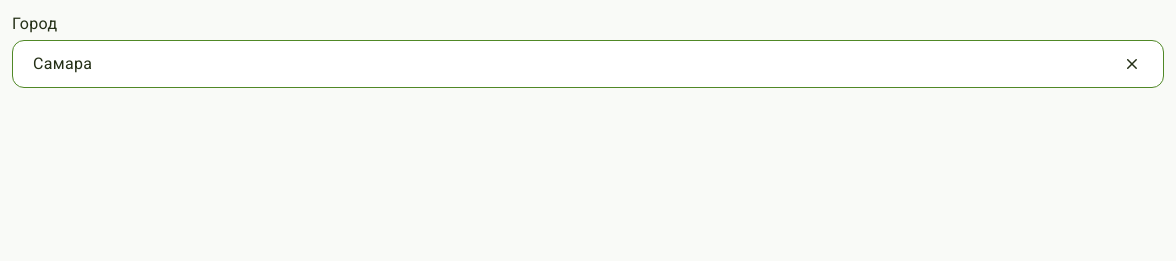
Select › закрывается по Escape без изменения значения (searchable=true)
The image size is (1176, 261).
Click the dropdown: (588, 64) left=12, top=40, right=1164, bottom=88
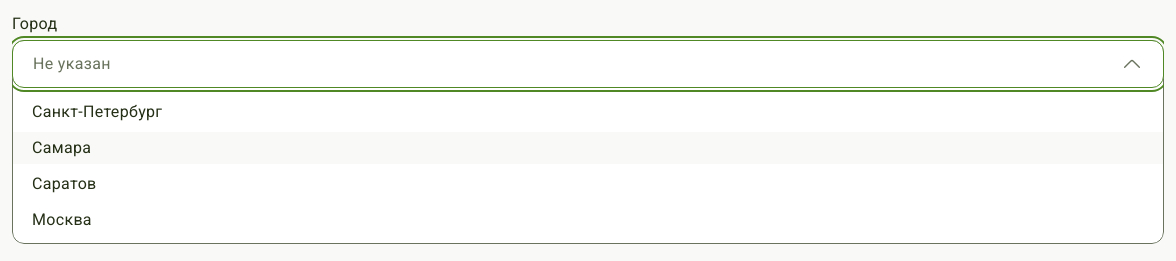
Press Escape
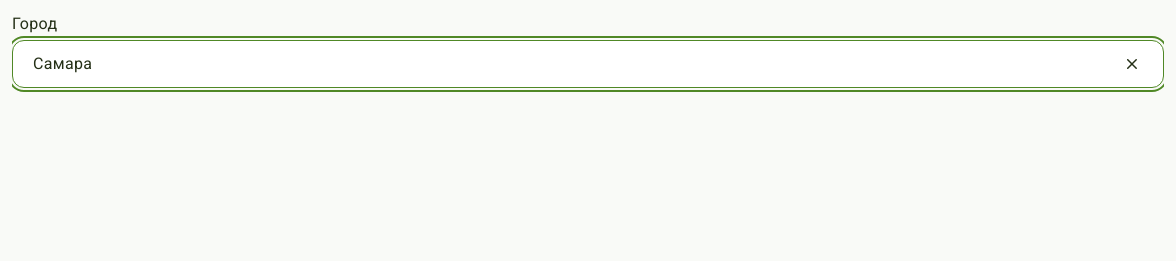
Expected: the list is gone
Expected: the dropdown holds "Самара", left=12, top=40, right=1164, bottom=88
